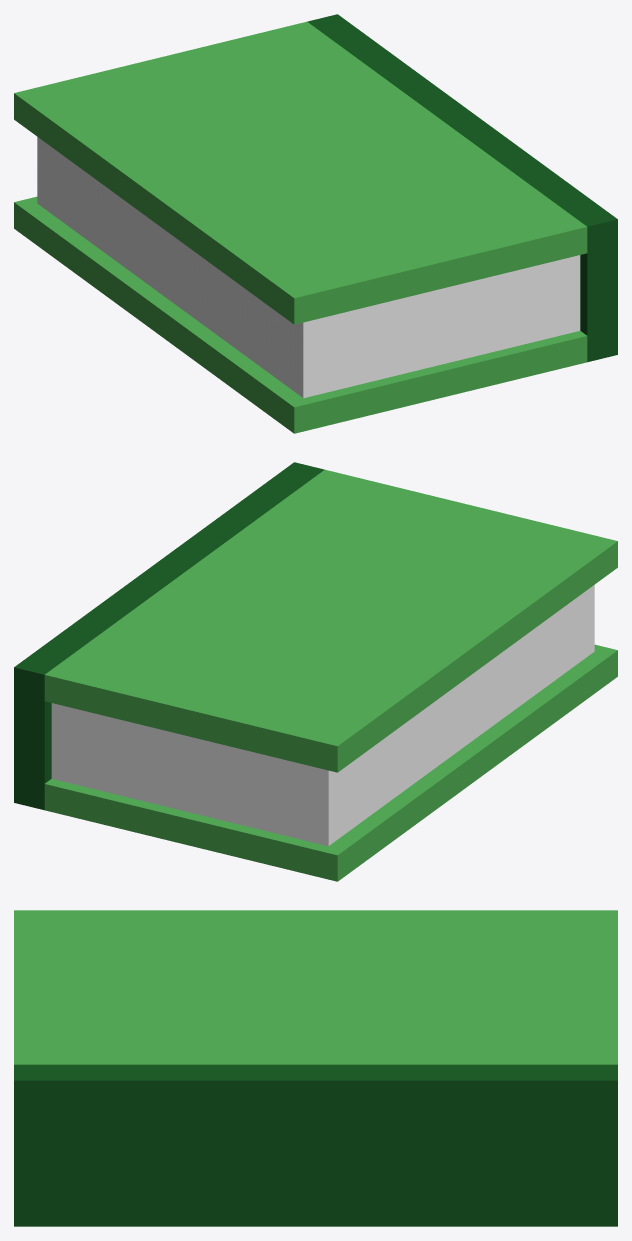
The model's file is obj_book.fbx.
The picture shows the model from 3 angles, top to bottom: view 1: azimuth 30°, elevation 25°; view 2: azimuth 150°, elevation 25°; view 3: azimuth 270°, elevation 25°; orthographic projection. The views are drawn at different scales.
Parts seen in each view (by area): view 1: book; view 2: book; view 3: book.
Part boxes in pixels (x1=…): book: x1=14, y1=14, x2=617, y2=433; book: x1=14, y1=462, x2=617, y2=881; book: x1=14, y1=910, x2=617, y2=1226.
Size of the model in its own units: 200 by 80 by 300.
